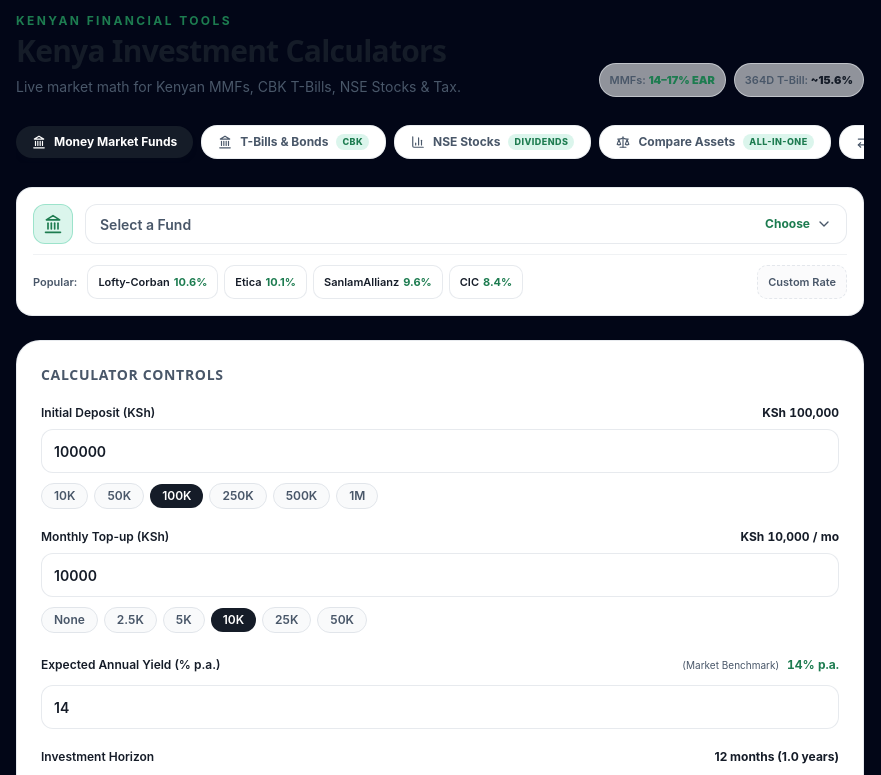
Test case: CalculatorPage Multi-Asset Experience › switches to NSE Stocks calculator when tab is clicked
What coordinates should you click on to do the following:
click the button "NSE Stocks Dividends"
I would click on:
 (493, 142)
Its box is [394,125,591,159].
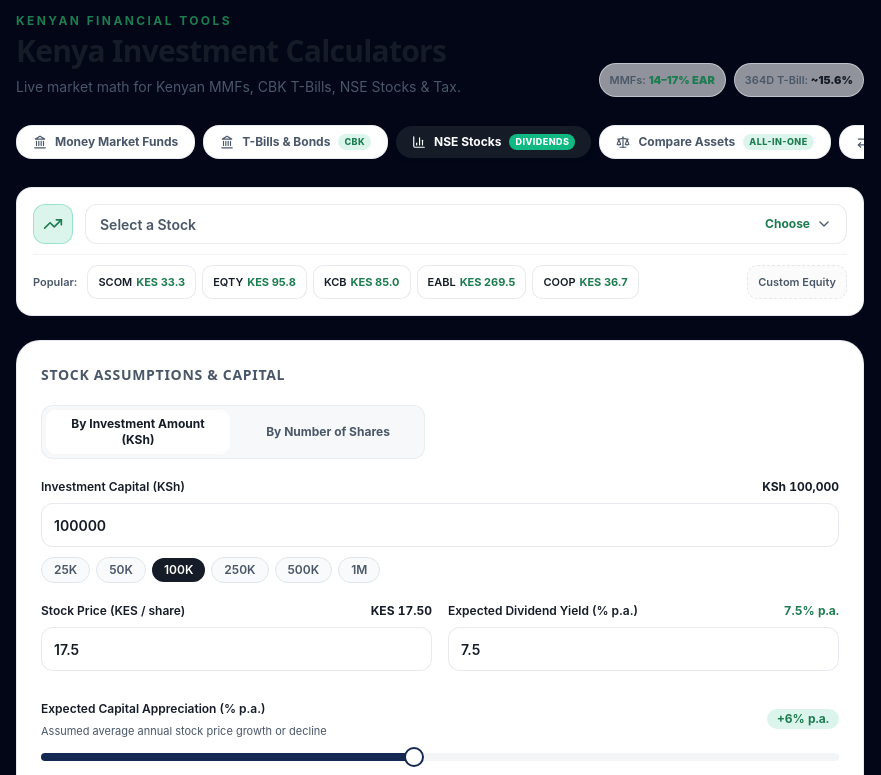
Expected: the heading "Stock Assumptions & Capital" is shown, [41,365,285,384]
Expected: the button "By Investment Amount (KSh)" is shown, [46,410,230,454]
